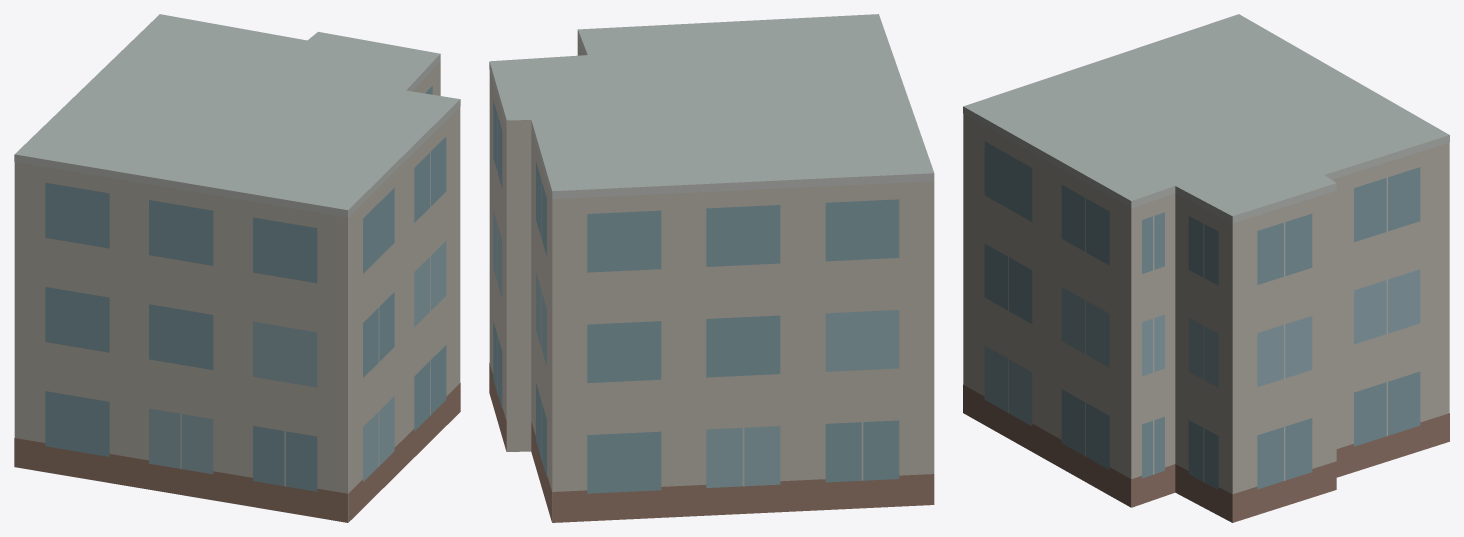
The model's file is survey-upis-32509064.glb.
The picture shows the model from 3 angles, left to right: view 1: azimuth 30°, elevation 25°; view 2: azimuth 150°, elevation 25°; view 3: azimuth 270°, elevation 25°; orthographic projection. The views are drawn at different scales.
Visible parts, largest first — view 1: survey-upis-32509064.tmp; view 2: survey-upis-32509064.tmp; view 3: survey-upis-32509064.tmp.
Boxes of the visible parts, x1,y1,x2,y2 form: survey-upis-32509064.tmp: (14,14,460,522); survey-upis-32509064.tmp: (489,14,934,522); survey-upis-32509064.tmp: (963,14,1449,522).
Size of the model in its own units: 14.44 by 10.2 by 14.68.
